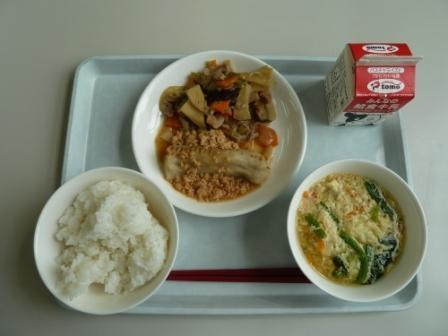Milk: (315, 28, 430, 129)
Rice: (23, 166, 176, 316)
Soups: (290, 159, 429, 299)
cereal based cooked food: (153, 123, 275, 201)
vegetable based cooked food: (150, 63, 281, 130)
